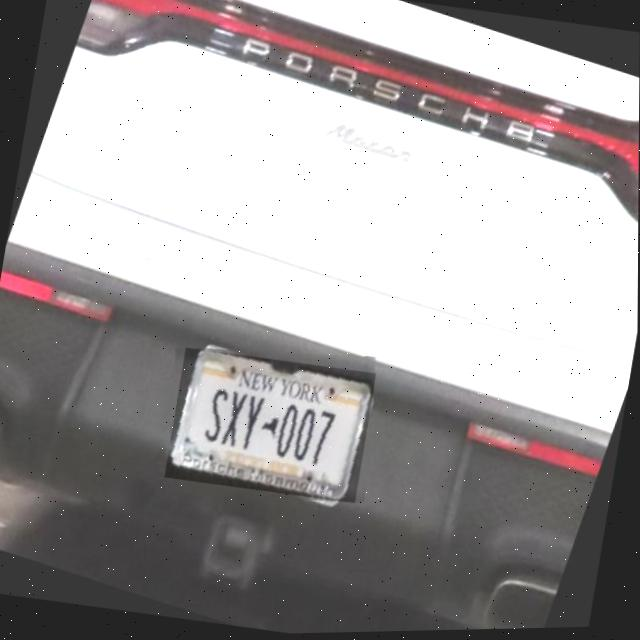LicensePlate: (168, 350, 375, 504)
